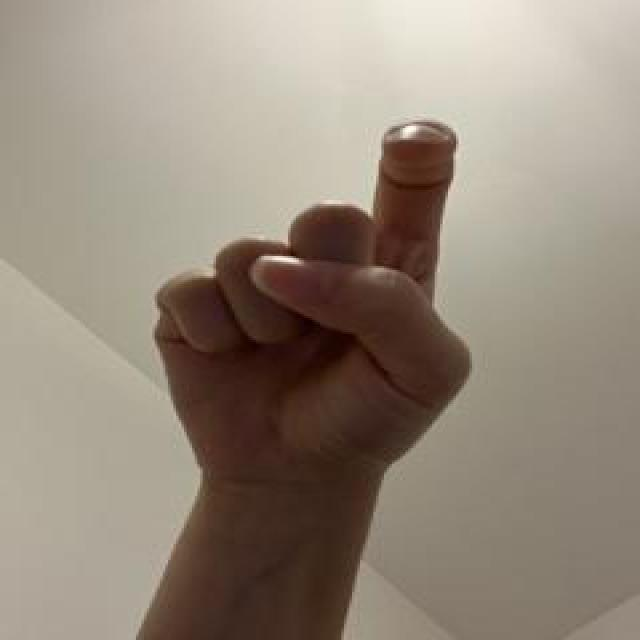X: (112, 60, 557, 544)
